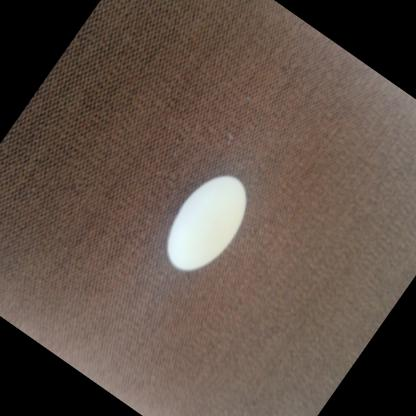Tabel Tennis: (145, 156, 266, 288)
